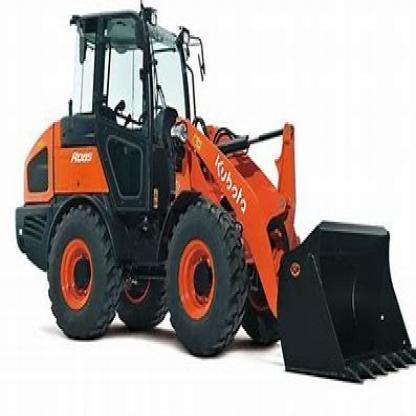bull_dozer/loader/grader: (18, 6, 415, 377)
